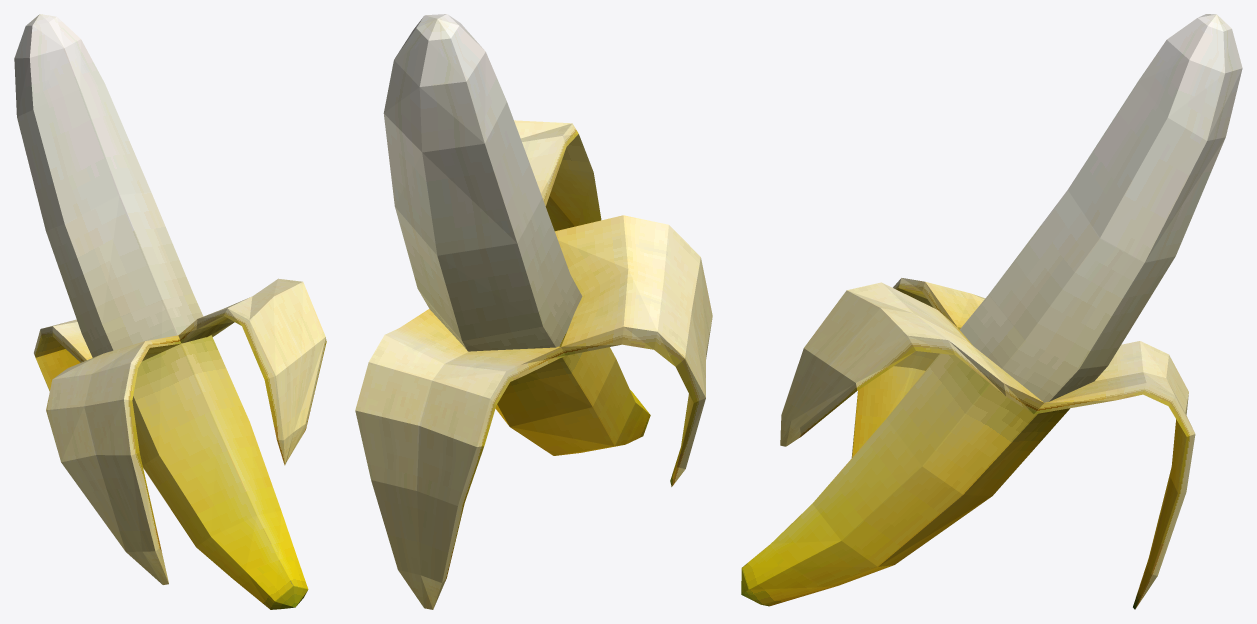
File: Banana.obj
The picture shows the model from 3 angles, left to right: view 1: azimuth 30°, elevation 25°; view 2: azimuth 150°, elevation 25°; view 3: azimuth 270°, elevation 25°; orthographic projection. The views are drawn at different scales.
Visible parts, largest first — view 1: Inst3D22_RefRep.186; view 2: Inst3D22_RefRep.186; view 3: Inst3D22_RefRep.186.
Boxes of the visible parts, x1,y1,x2,y2 form: Inst3D22_RefRep.186: (14,14,326,609); Inst3D22_RefRep.186: (355,14,712,609); Inst3D22_RefRep.186: (741,14,1242,609).
Size of the model in its own units: 2.59 by 5.24 by 4.18.
